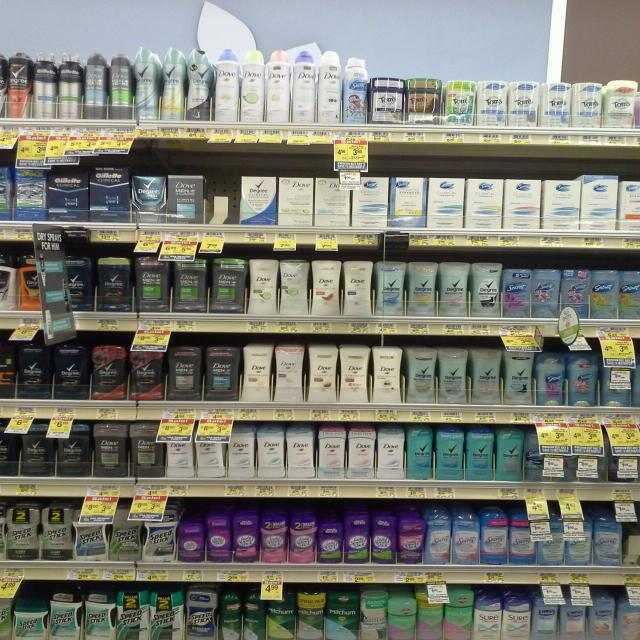void: (207, 174, 241, 225)
